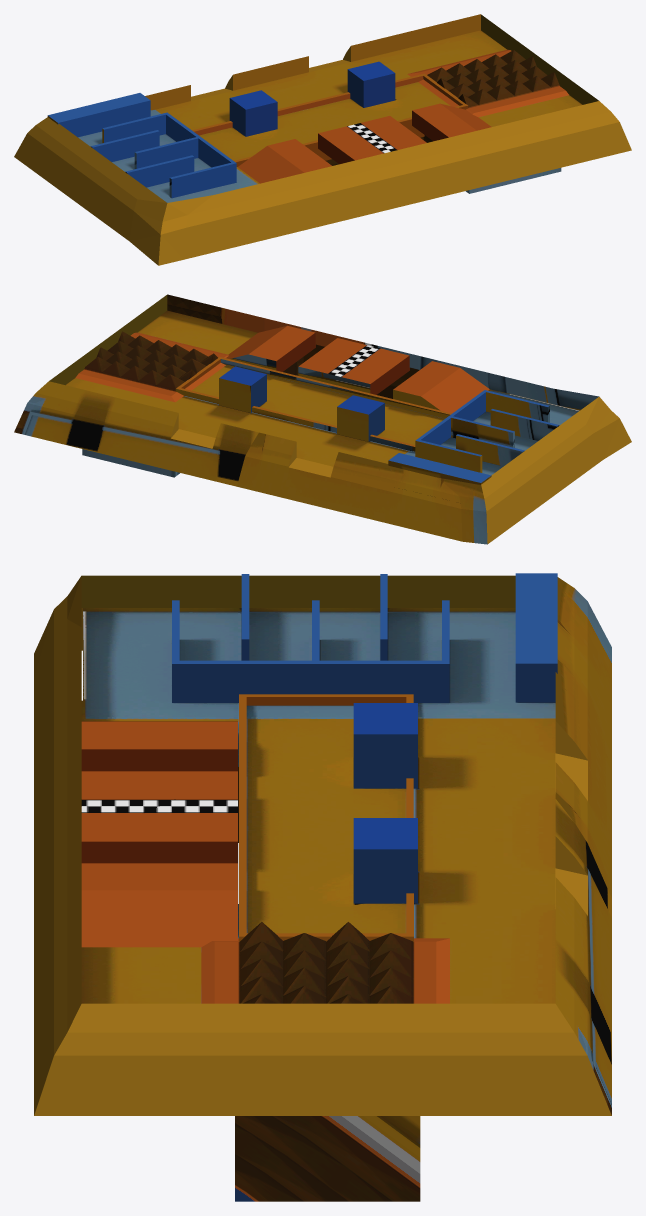
Rendered from obstacles.glb.
3 renders of one model, top to bottom at view 1: azimuth 30°, elevation 25°; view 2: azimuth 150°, elevation 25°; view 3: azimuth 270°, elevation 25°, orthographic. The views are drawn at different scales.
Visible parts, largest first — view 1: obstaclesMap, obstaclesIce; view 2: obstaclesMap, obstaclesIce; view 3: obstaclesMap, obstaclesIce.
Part boxes in pixels (left/top/right/bottom): obstaclesMap: left=47, top=14, right=598, bottom=198; obstaclesIce: left=14, top=101, right=631, bottom=265; obstaclesMap: left=49, top=294, right=598, bottom=484; obstaclesIce: left=14, top=381, right=631, bottom=544; obstaclesMap: left=81, top=573, right=587, bottom=1201; obstaclesIce: left=34, top=576, right=611, bottom=1115.
Size of the model in its own units: 27 by 5.98 by 14.27.
1 material, 1 textured.
